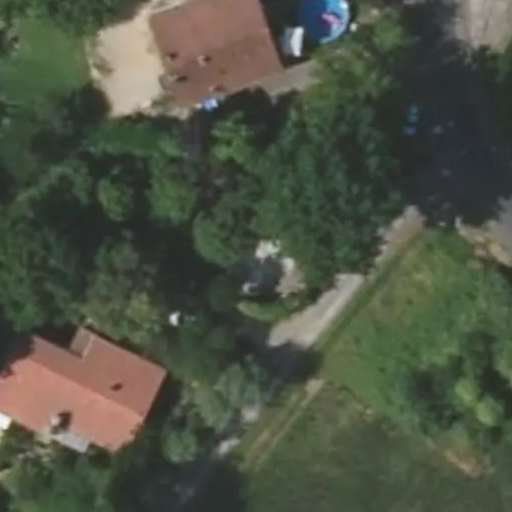pool: (208, 236, 304, 245)
